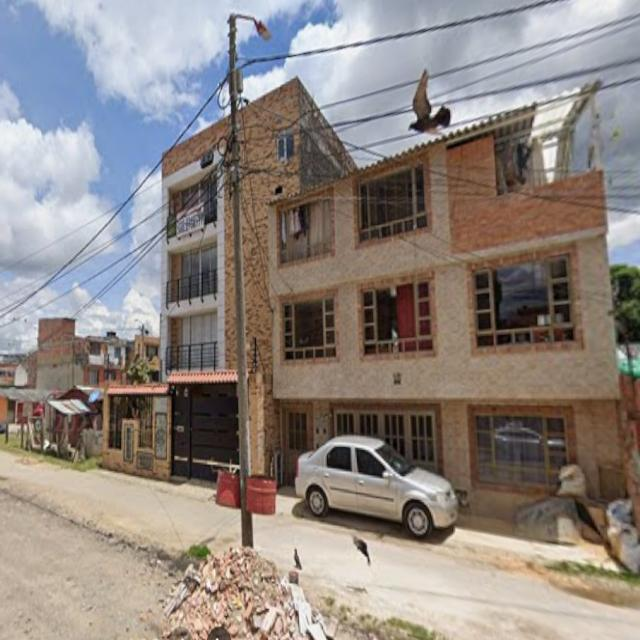Fachada: (270, 83, 632, 517), (237, 78, 354, 474), (153, 116, 239, 479), (35, 317, 129, 389), (103, 383, 168, 475)
Poste: (228, 13, 270, 547)
